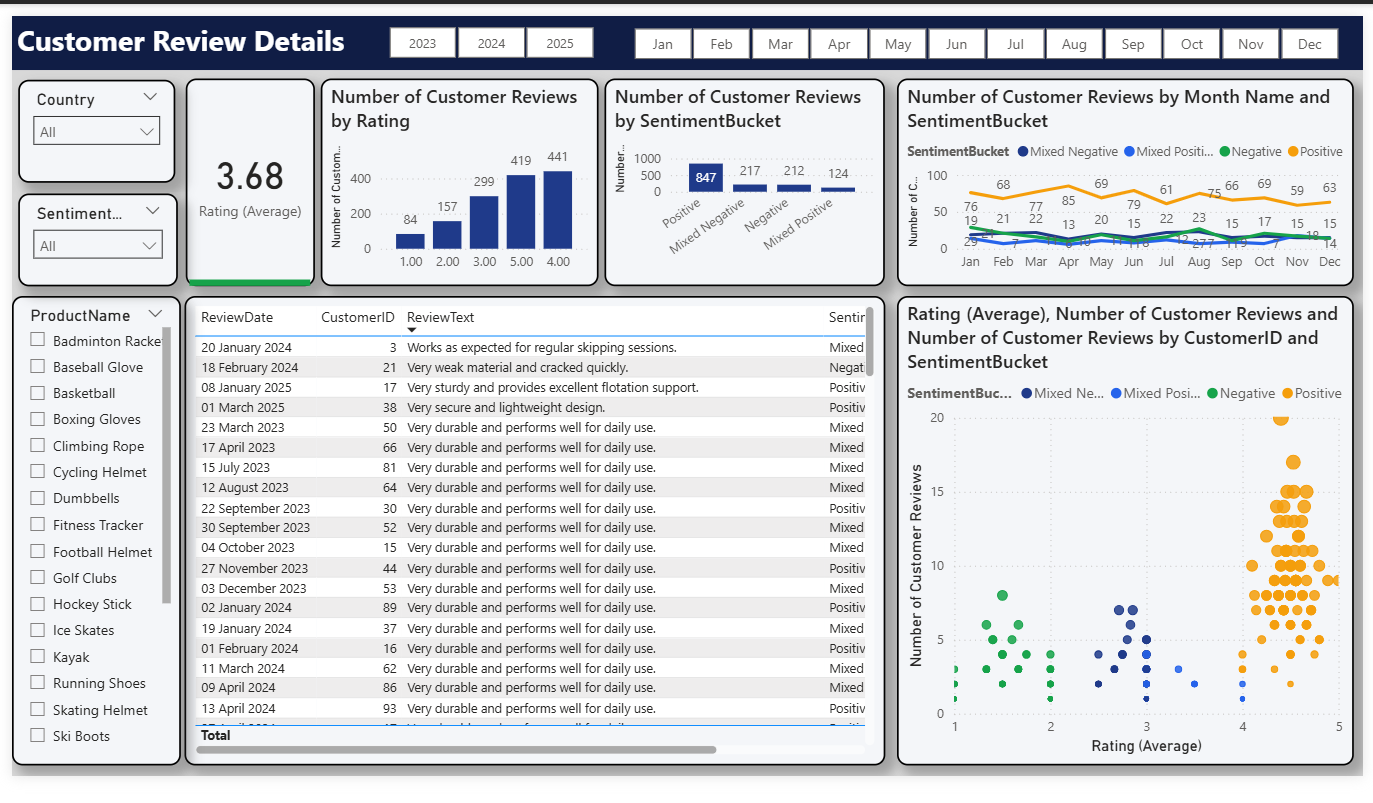

Layout of this report page (visuals, bound fields, positions):
{"tool":"powerbi","page":{"name":"Customer Review Details","canvas":[1280,720],"ordinal":3},"visuals":[{"type":"textbox","box":[0,0,1280,51],"z":0},{"type":"slicer","fields":{"Values":["Calendar.Year"]},"box":[331.4,3.6,243.2,42.9],"z":1000},{"type":"slicer","fields":{"Values":["Calendar.MonthNameShort"]},"box":[563.2,4.9,716.6,42.9],"z":2000},{"type":"card","fields":{"Values":["_Calculations.Rating (Average)"]},"box":[164.5,59.6,122.8,196.7],"z":3000},{"type":"clusteredColumnChart","fields":{"Y":["_Calculations.Number of Customer Reviews"],"Category":["final_ai_output.Rating"]},"box":[292,59.6,263.4,196.7],"z":4000},{"type":"clusteredColumnChart","fields":{"Y":["_Calculations.Number of Customer Reviews"],"Category":["final_ai_output.SentimentBucket"]},"box":[561.4,59.6,265.8,196.7],"z":5000},{"type":"lineChart","title":"Number of Customer Reviews by Month Name and SentimentBucket","fields":{"Category":["Calendar.MonthNameShort"],"Y":["_Calculations.Number of Customer Reviews"],"Series":["final_ai_output.SentimentBucket"]},"box":[838,59.6,432.7,196.7],"z":6000},{"type":"tableEx","fields":{"Values":["final_ai_output.ReviewDate","dim_customers.CustomerID","final_ai_output.ReviewText","final_ai_output.SentimentBucket","_Calculations.Rating (Average)"]},"box":[163.3,265.8,664,444.6],"z":7000},{"type":"scatterChart","fields":{"X":["_Calculations.Rating (Average)"],"Y":["_Calculations.Number of Customer Reviews"],"Category":["dim_customers.CustomerID"],"Size":["_Calculations.Number of Customer Reviews"],"Series":["final_ai_output.SentimentBucket"]},"box":[838,265.8,432.7,444.6],"z":8000},{"type":"slicer","fields":{"Values":["dim_products.ProductName"]},"box":[0,265.8,159.7,444.6],"z":9000},{"type":"slicer","fields":{"Values":["dim_customers.Country"]},"box":[6,60.8,149,97.7],"z":10000},{"type":"slicer","fields":{"Values":["final_ai_output.SentimentBucket"]},"box":[6,168.1,151.4,88.2],"z":11000},{"type":"shape","box":[168.1,188.3,114.4,128.7],"z":12000}]}

Visuals, with their boxes in screenshot pixels (x1, y1, x2, y2):
textbox: bbox=[7, 11, 1361, 65]
slicer - Calendar.Year: bbox=[358, 15, 615, 60]
slicer - Calendar.MonthNameShort: bbox=[603, 16, 1361, 61]
card - _Calculations.Rating (Average): bbox=[181, 74, 311, 282]
clusteredColumnChart - _Calculations.Number of Customer Reviews x final_ai_output.Rating: bbox=[316, 74, 595, 282]
clusteredColumnChart - _Calculations.Number of Customer Reviews x final_ai_output.SentimentBucket: bbox=[601, 74, 882, 282]
"Number of Customer Reviews by Month Name and SentimentBucket" lineChart: bbox=[894, 74, 1351, 282]
tableEx - final_ai_output.ReviewDate x dim_customers.CustomerID: bbox=[180, 292, 882, 762]
scatterChart - _Calculations.Rating (Average) x _Calculations.Number of Customer Reviews: bbox=[894, 292, 1351, 762]
slicer - dim_products.ProductName: bbox=[7, 292, 176, 762]
slicer - dim_customers.Country: bbox=[13, 75, 171, 178]
slicer - final_ai_output.SentimentBucket: bbox=[13, 189, 174, 282]
shape: bbox=[185, 210, 306, 346]
